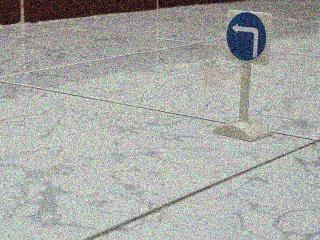left: (217, 12, 273, 74)
